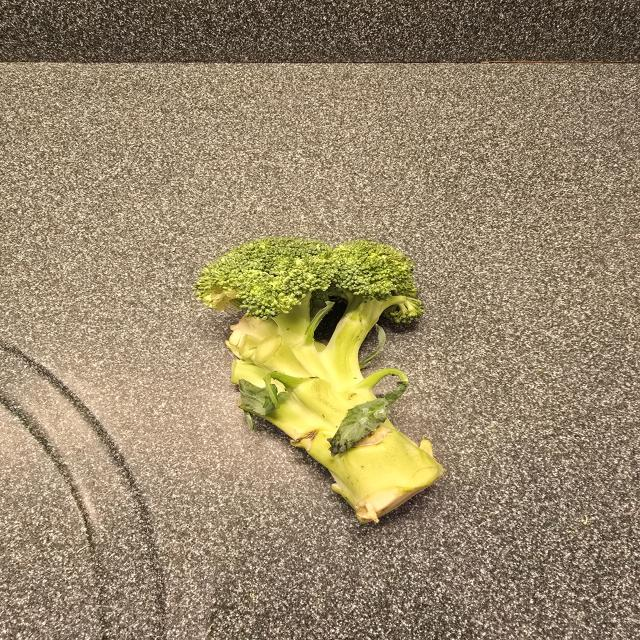Broccoli: (186, 233, 458, 533)
